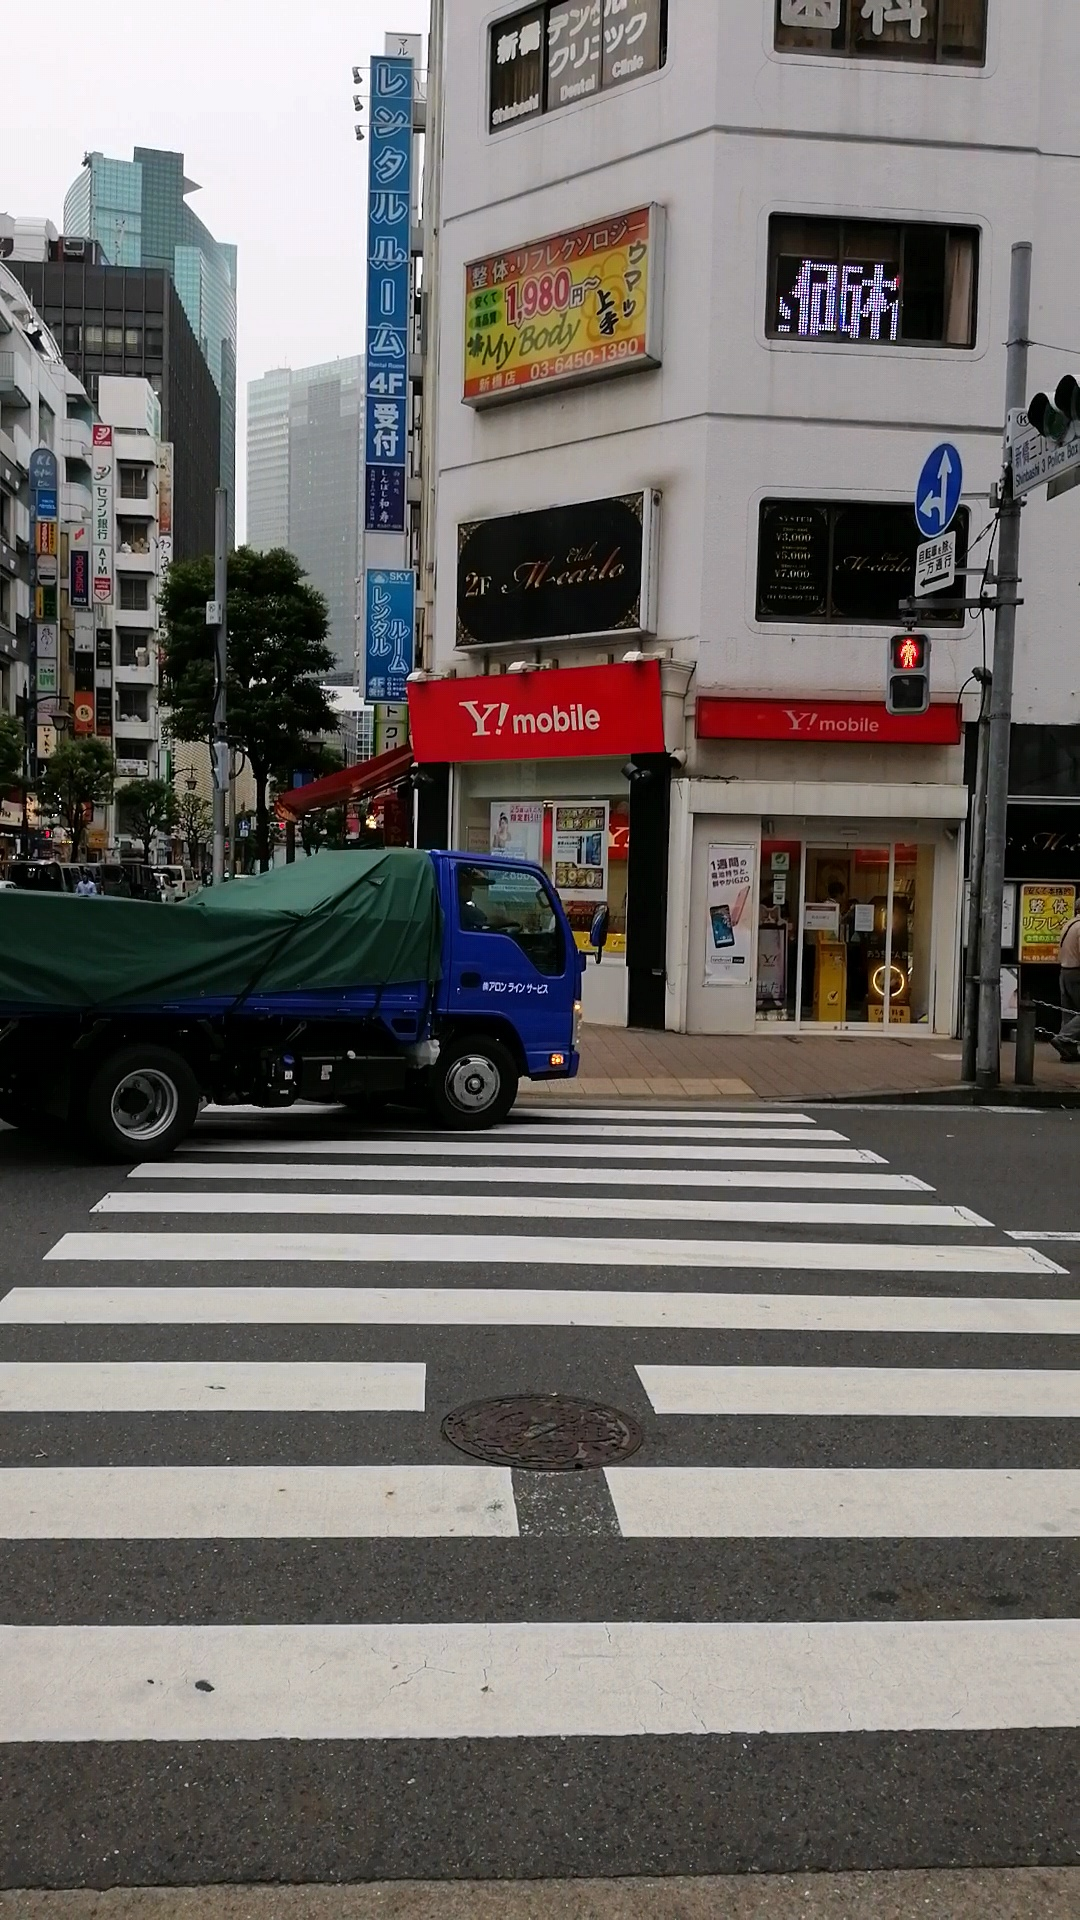red: (886, 632, 928, 713)
